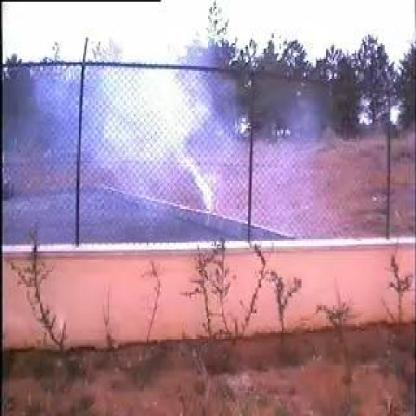-: (51, 63, 249, 247)
